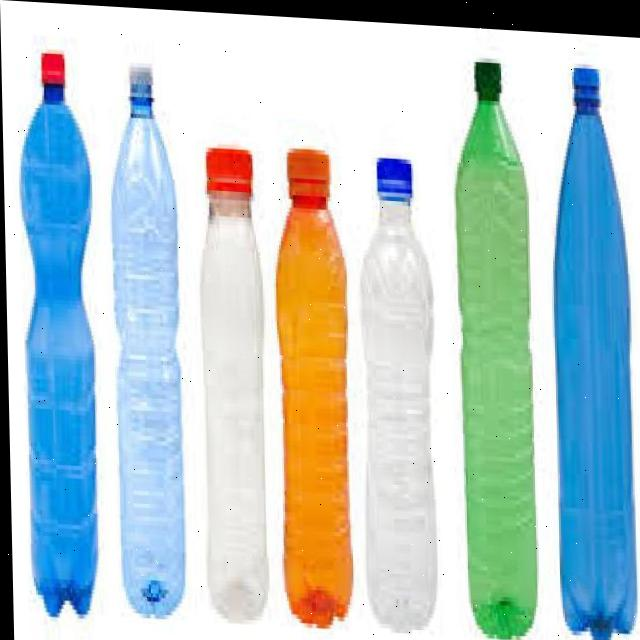bottle: (102, 47, 193, 626), (360, 133, 453, 640)
